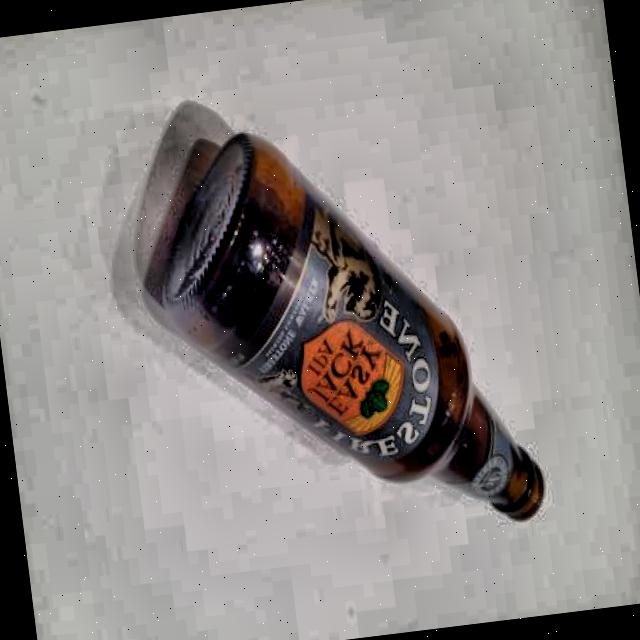glass: (138, 98, 556, 567)
